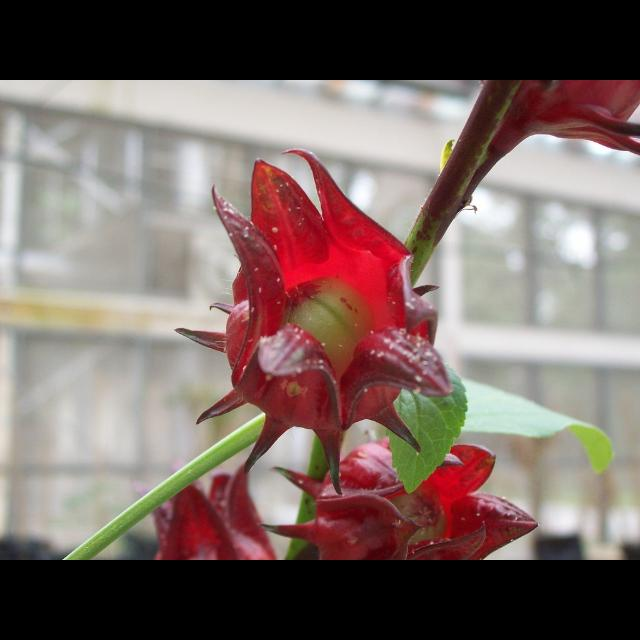Flower: (177, 156, 443, 474), (255, 433, 540, 559), (134, 458, 276, 560), (478, 80, 640, 156)
